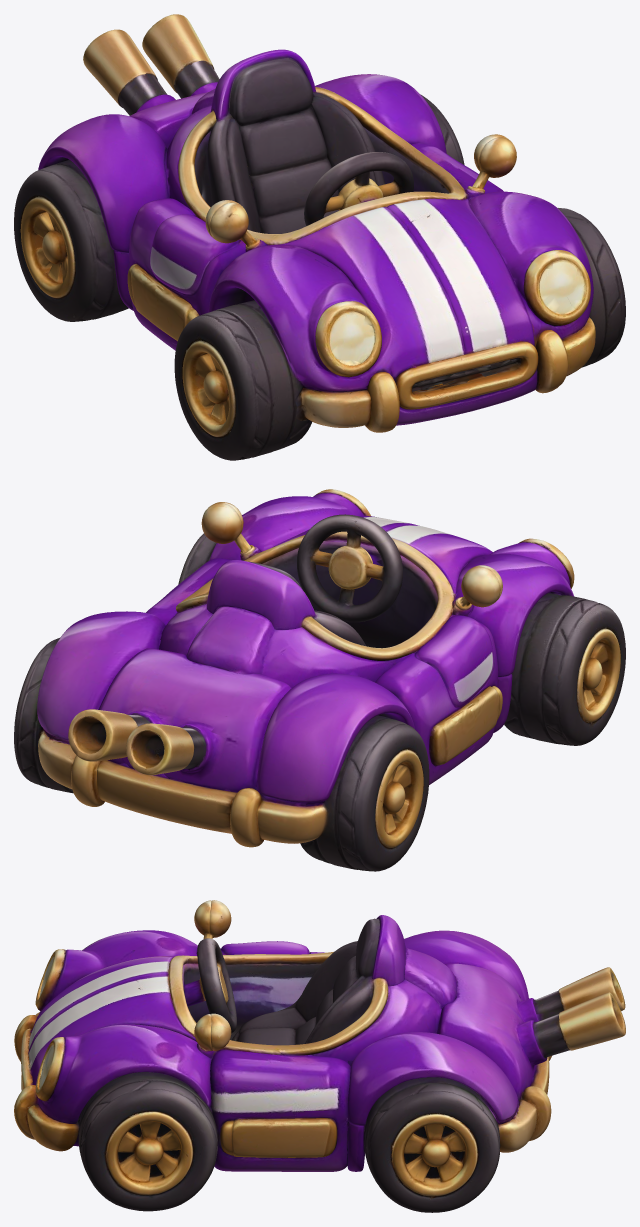
File: kart2.glb
3 views of the same model, one above another, from view 1: azimuth 30°, elevation 25°; view 2: azimuth 150°, elevation 25°; view 3: azimuth 270°, elevation 25° (orthographic). The views are drawn at different scales.
Visible parts, largest first — view 1: tripo_part_79, tripo_part_20, tripo_part_0, tripo_part_24, tripo_part_7, tripo_part_17, tripo_part_36, tripo_part_2, tripo_part_9, tripo_part_50, tripo_part_6, tripo_part_3 (+24 smaller); view 2: tripo_part_79, tripo_part_24, tripo_part_36, tripo_part_38, tripo_part_2, tripo_part_6, tripo_part_3, tripo_part_0, tripo_part_49, tripo_part_43, tripo_part_8, tripo_part_9 (+17 smaller); view 3: tripo_part_0, tripo_part_63, tripo_part_78, tripo_part_38, tripo_part_9, tripo_part_6, tripo_part_17, tripo_part_8, tripo_part_51, tripo_part_79, tripo_part_36, tripo_part_20 (+21 smaller).
Part boxes in pixels (x1,y1,x2,y2): tripo_part_79: (174,244,373,460); tripo_part_20: (280,206,465,382); tripo_part_0: (178,87,503,244); tripo_part_24: (14,160,128,321); tripo_part_7: (229,57,338,233); tripo_part_17: (386,198,535,354); tripo_part_36: (38,104,211,252); tripo_part_2: (129,198,245,350); tripo_part_9: (468,191,593,345); tripo_part_50: (395,341,538,409); tripo_part_6: (315,74,446,153); tripo_part_3: (304,152,413,225); tripo_part_79: (455,542,625,745); tripo_part_24: (230,715,429,871); tripo_part_36: (257,627,414,805); tripo_part_38: (98,604,291,791); tripo_part_2: (375,613,498,784); tripo_part_6: (37,611,165,740); tripo_part_3: (297,514,402,622); tripo_part_0: (146,531,455,660); tripo_part_49: (97,760,237,833); tripo_part_43: (206,560,315,629); tripo_part_8: (321,541,437,648); tripo_part_9: (209,493,363,560); tripo_part_0: (168,941,388,1171); tripo_part_63: (78,1072,217,1211); tripo_part_78: (364,1077,501,1212); tripo_part_38: (312,963,532,1099); tripo_part_9: (38,1024,212,1124); tripo_part_6: (347,1032,517,1125); tripo_part_17: (27,974,195,1085); tripo_part_8: (182,963,321,1040); tripo_part_51: (219,1118,337,1157); tripo_part_79: (39,930,197,1013); tripo_part_36: (404,930,528,1000); tripo_part_20: (28,956,175,1050).
Bounding box in the file's own units: 0.6554 × 0.3808 × 0.9802.
51 materials, 51 textured.
